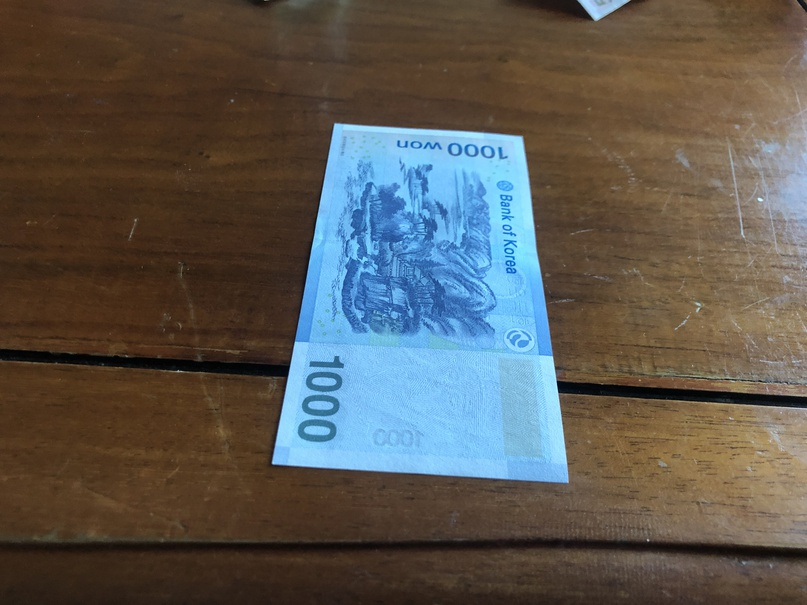1000won: (270, 122, 572, 485)
